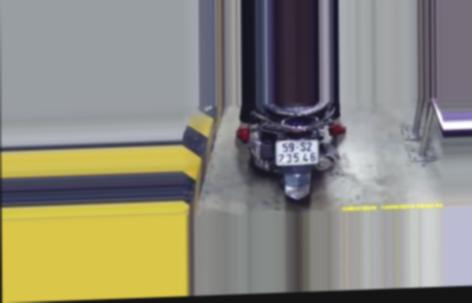License_Plate: (272, 135, 320, 168)
